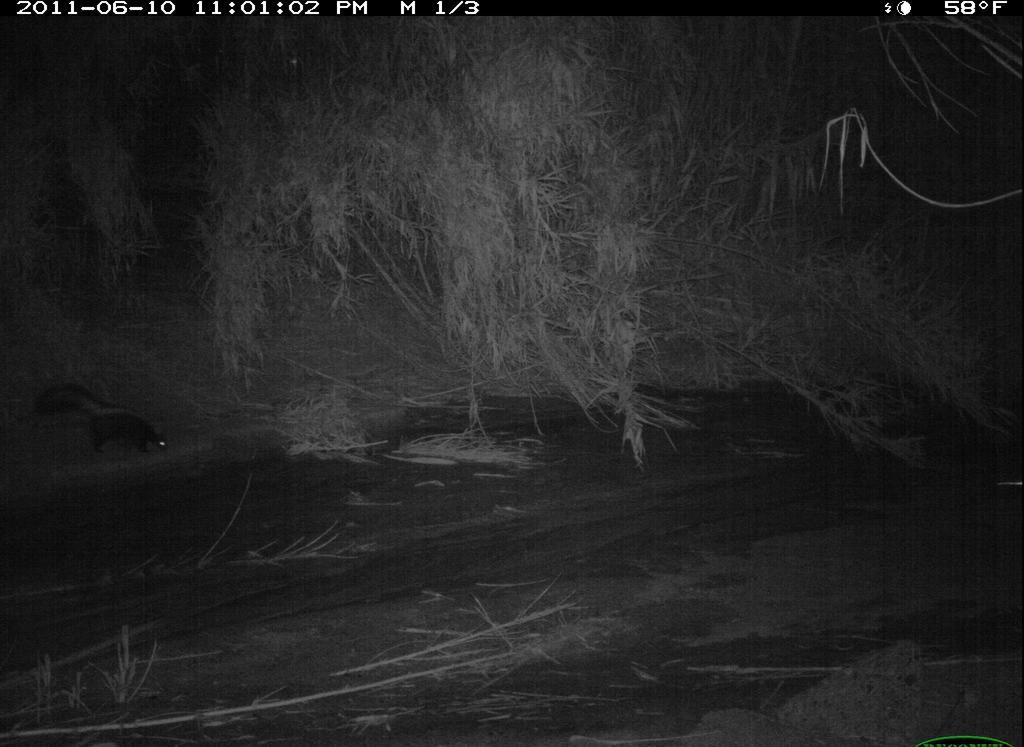skunk: (31, 376, 178, 463)
